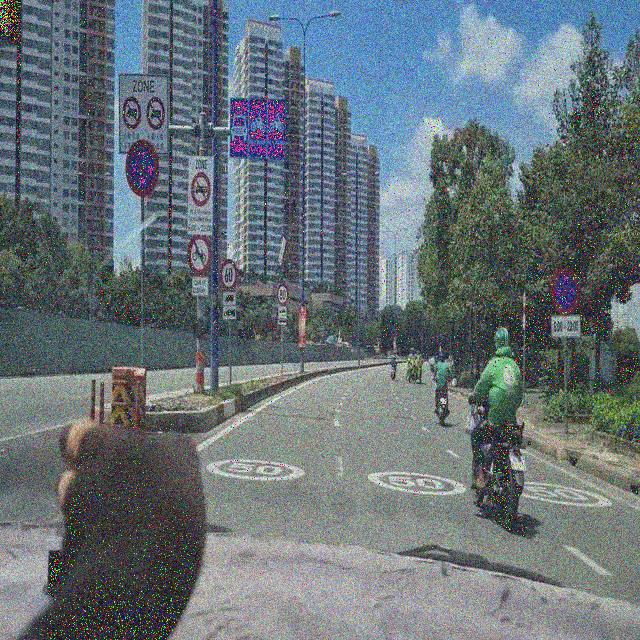Biển phụ: (549, 312, 581, 338), (190, 269, 210, 297), (222, 291, 238, 324), (277, 305, 285, 325)
Cấm các phương tiện hoạt động trong khung giờ cố định: (106, 63, 167, 155), (183, 149, 212, 237)
Cấm dừng - Cấm đỗ: (120, 133, 163, 200), (544, 244, 586, 311)
Cấm xe máy: (184, 229, 211, 270)
Giới hạn tốc độ: 60Km/h: (217, 252, 238, 290)
Giới hạn tốc độ: 80Km/h: (275, 278, 288, 306)
Làn đường cho từng xe: (226, 91, 286, 162)
